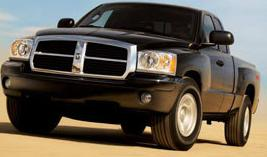front_view: (11, 34, 183, 117)
headlight: (131, 45, 181, 83)
side_glass: (201, 15, 237, 51)
